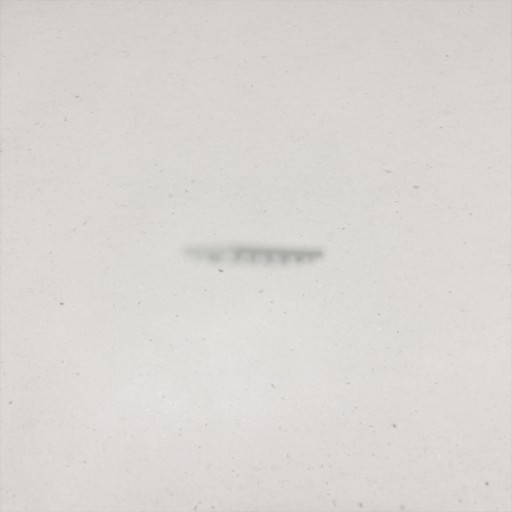lego: (182, 243, 325, 268)
